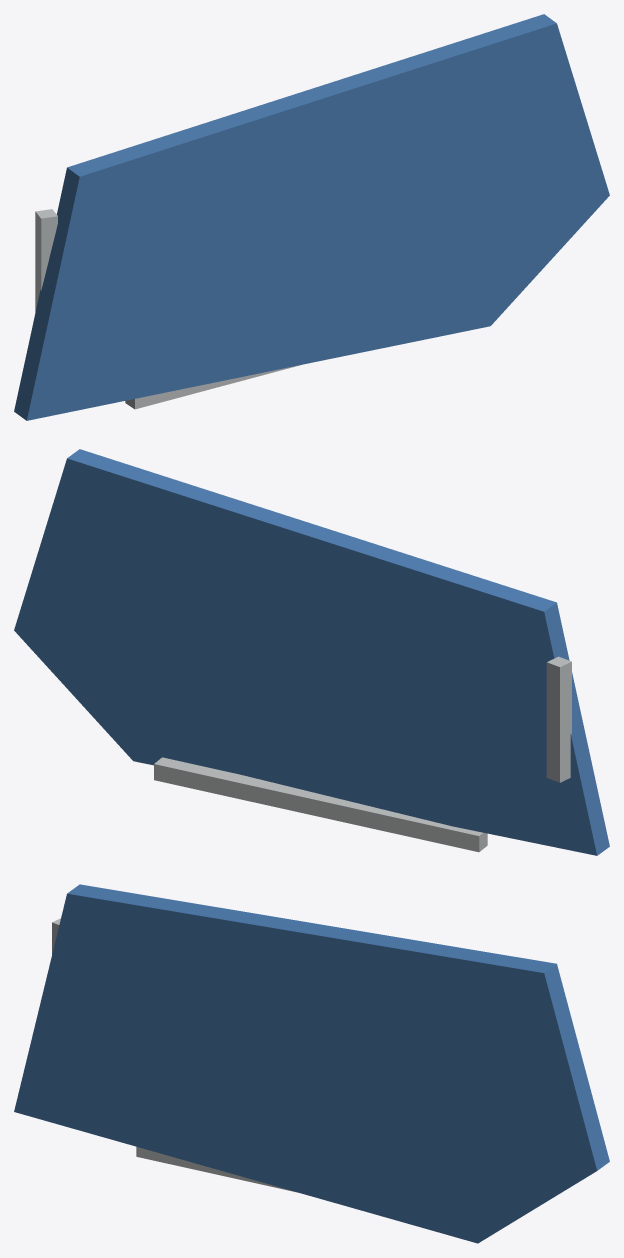
File: Debris_PanelShard_A.fbx
3 renders of one model, top to bottom at view 1: azimuth 30°, elevation 25°; view 2: azimuth 150°, elevation 25°; view 3: azimuth 330°, elevation 25°, orthographic.
Visible parts, largest first — view 1: jagged_solar_panel, broken_frame_b, broken_frame_a; view 2: jagged_solar_panel, broken_frame_a, broken_frame_b; view 3: jagged_solar_panel, broken_frame_a.
Part boxes in pixels (<box>): jagged_solar_panel: <box>14,14,609,420</box>; broken_frame_b: <box>35,209,57,312</box>; broken_frame_a: <box>125,365,300,409</box>; jagged_solar_panel: <box>14,449,609,855</box>; broken_frame_a: <box>154,757,487,852</box>; broken_frame_b: <box>546,656,571,782</box>; jagged_solar_panel: <box>14,884,609,1243</box>; broken_frame_a: <box>136,1146,296,1192</box>.
Bounding box in the file's own units: 132 × 62.75 × 9.19.
